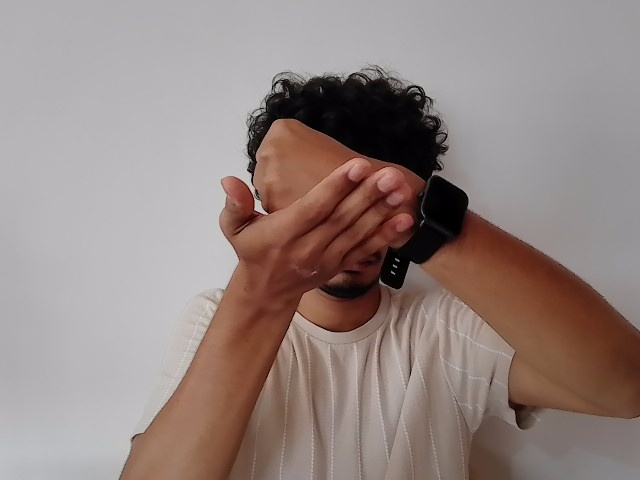help: (217, 116, 412, 289)
